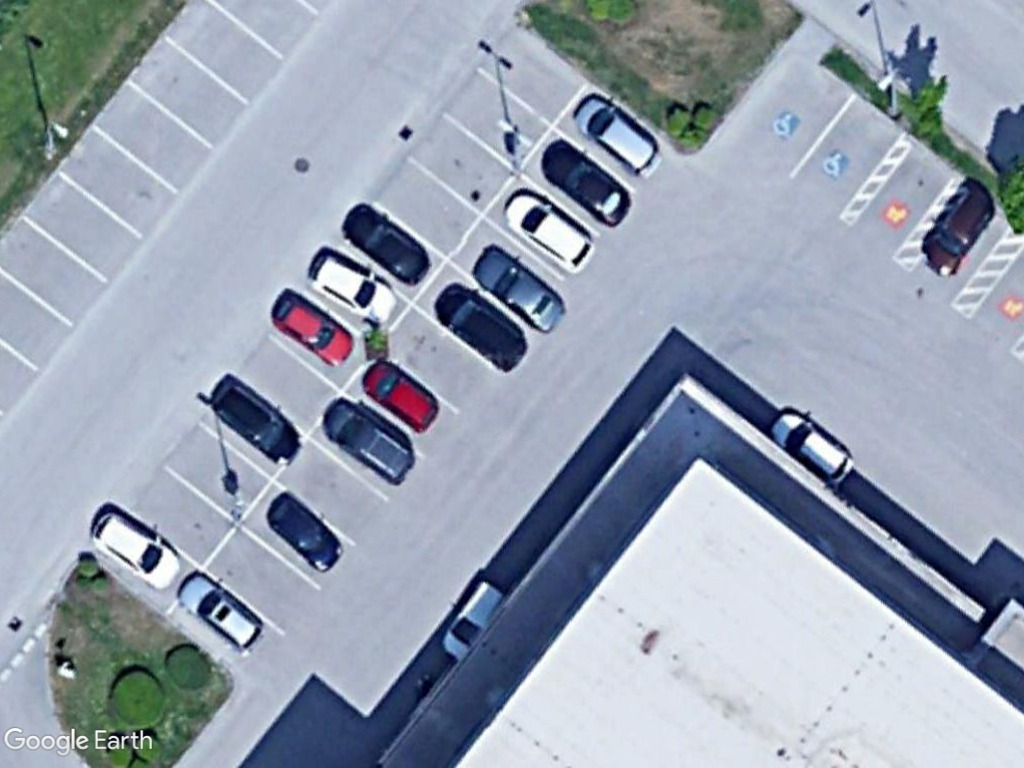car: (208, 376, 309, 467), (473, 245, 568, 338), (321, 400, 417, 492), (500, 185, 597, 272), (434, 288, 532, 374), (572, 93, 666, 181), (541, 141, 632, 230), (765, 406, 857, 492), (342, 202, 432, 288), (91, 509, 184, 591), (177, 569, 267, 653), (306, 250, 401, 328), (264, 492, 349, 576), (919, 186, 998, 275), (270, 293, 356, 368), (359, 355, 440, 431)
